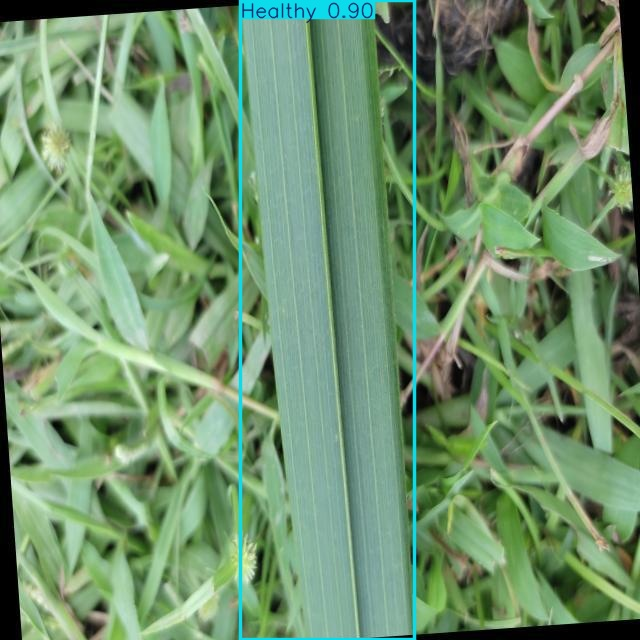Healthy: (241, 0, 415, 639)
